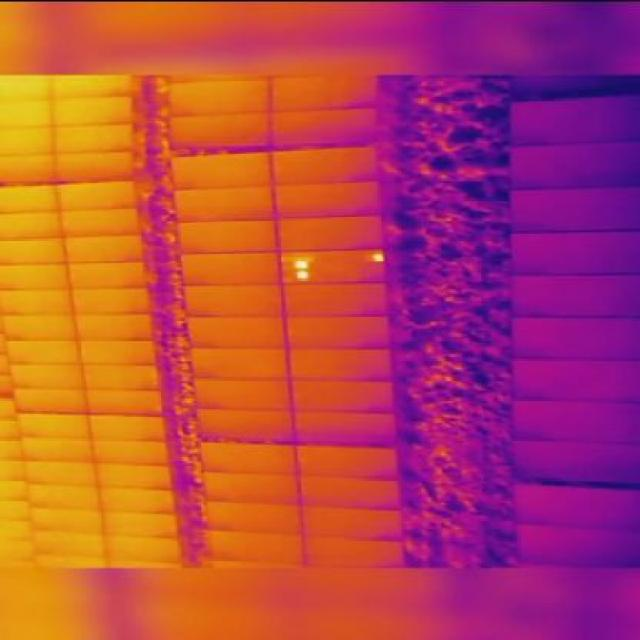hotspot: (294, 265, 314, 281), (368, 251, 386, 263), (294, 258, 311, 268)
